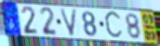2: (39, 6, 59, 37), (21, 6, 40, 36)
8: (124, 13, 143, 40), (81, 11, 98, 38)
C: (103, 10, 124, 42)
V: (58, 8, 79, 37)
